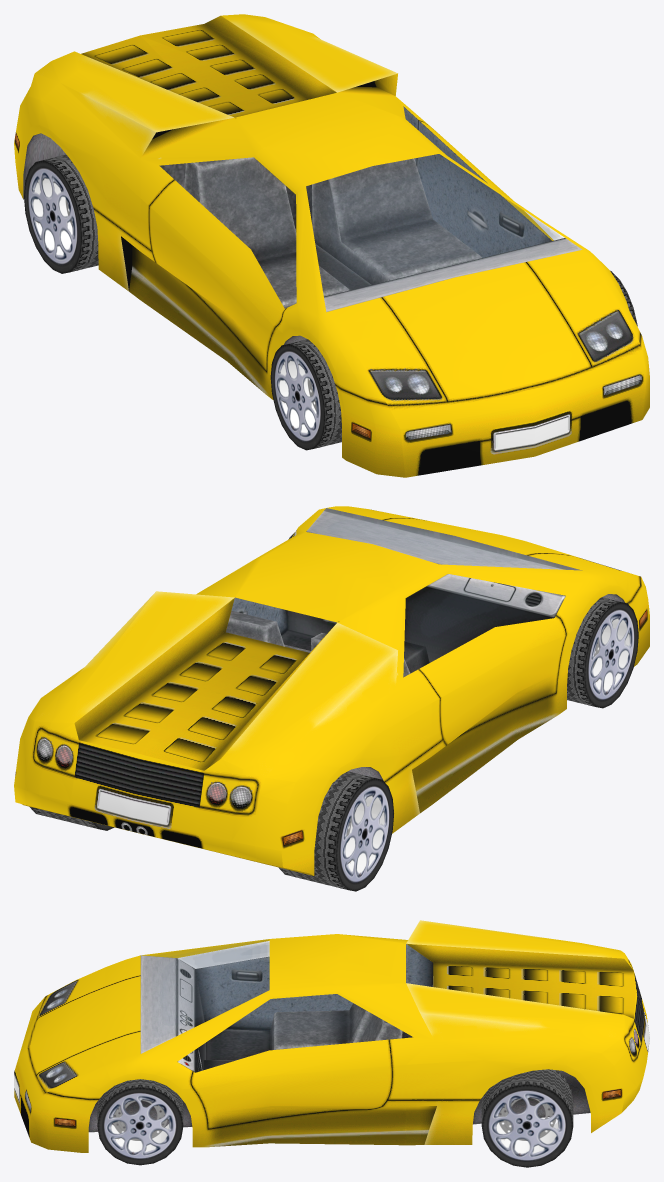
The model's file is NyrksDiablo_d5195e822e52.glb.
3 views of the same model, one above another, from view 1: azimuth 30°, elevation 25°; view 2: azimuth 150°, elevation 25°; view 3: azimuth 270°, elevation 25° (orthographic). The views are drawn at different scales.
Parts seen in each view (by area): view 1: BODY, INTERIOR, WHEEL_2, WHEEL_0; view 2: BODY, INTERIOR, WHEEL_2, WHEEL_0; view 3: BODY, INTERIOR, WHEEL_3, WHEEL_1.
Boxes of the visible parts, x1=… form: BODY: x1=14, y1=14, x2=649, y2=477; INTERIOR: x1=159, y1=106, x2=582, y2=311; WHEEL_2: x1=24, y1=154, x2=98, y2=273; WHEEL_0: x1=270, y1=339, x2=341, y2=450; BODY: x1=14, y1=506, x2=649, y2=875; INTERIOR: x1=226, y1=508, x2=581, y2=677; WHEEL_2: x1=278, y1=771, x2=393, y2=891; WHEEL_0: x1=567, y1=597, x2=638, y2=708; BODY: x1=14, y1=920, x2=649, y2=1152; INTERIOR: x1=140, y1=944, x2=433, y2=1072; WHEEL_3: x1=481, y1=1069, x2=573, y2=1167; WHEEL_1: x1=97, y1=1079, x2=183, y2=1165.
Bounding box in the file's own units: 1.99 × 1.17 × 4.44.
21 materials, 21 textured.
